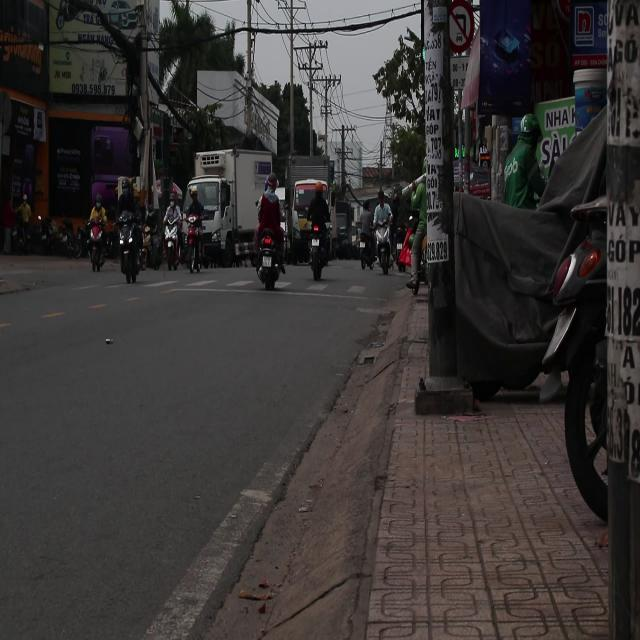motorbike: (256, 197, 288, 290), (308, 210, 332, 298), (118, 216, 146, 284), (160, 208, 184, 280), (373, 218, 401, 276), (354, 212, 378, 274), (42, 216, 76, 257), (88, 221, 111, 274)
truck: (187, 146, 276, 264), (285, 147, 338, 287)
